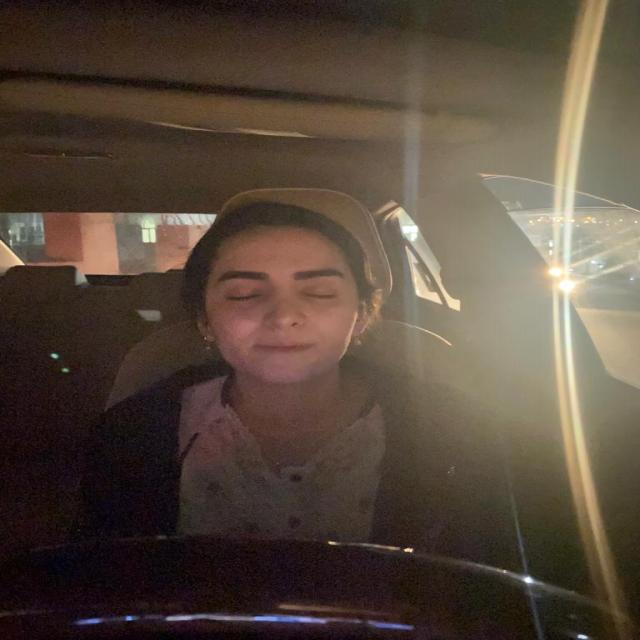drowsy: (181, 197, 379, 387)
